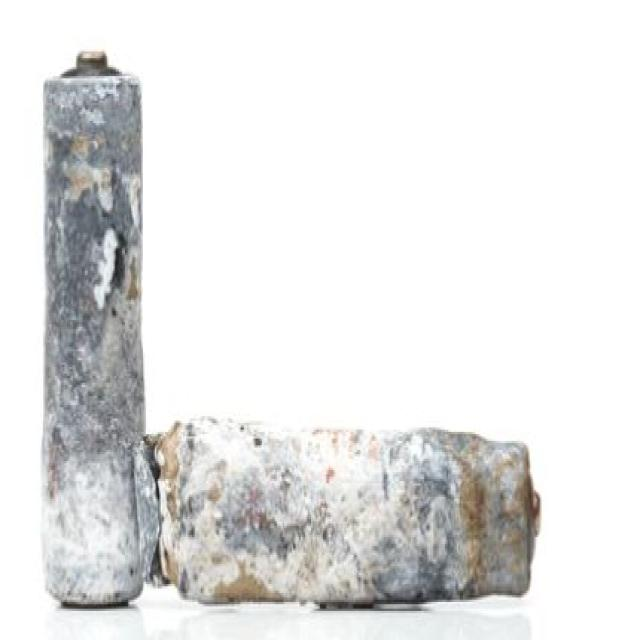electronic: (20, 30, 160, 620)
